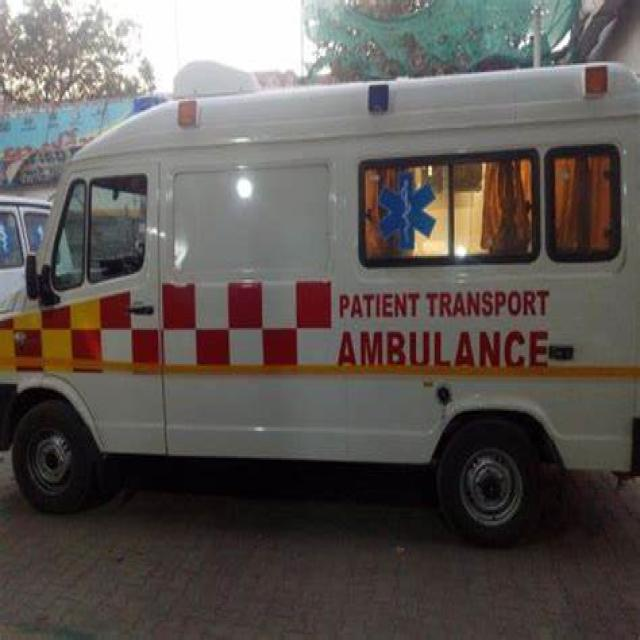ambulance: (152, 82, 214, 149), (354, 72, 408, 132), (564, 53, 609, 121)
